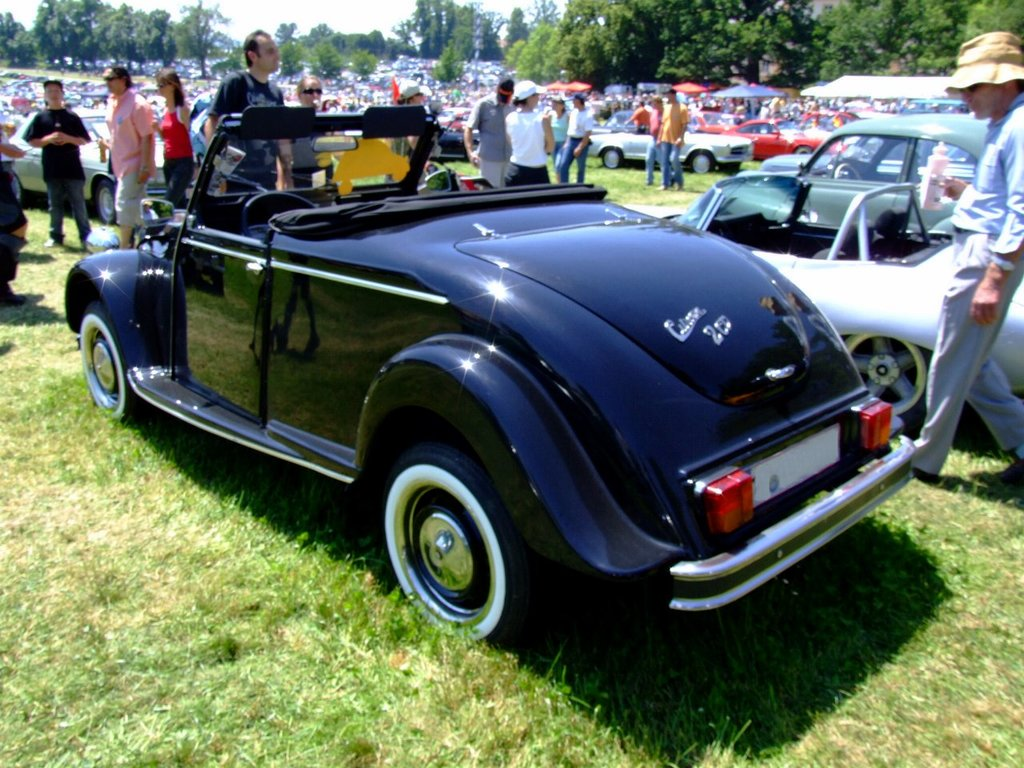Car: (0, 54, 1023, 647)
